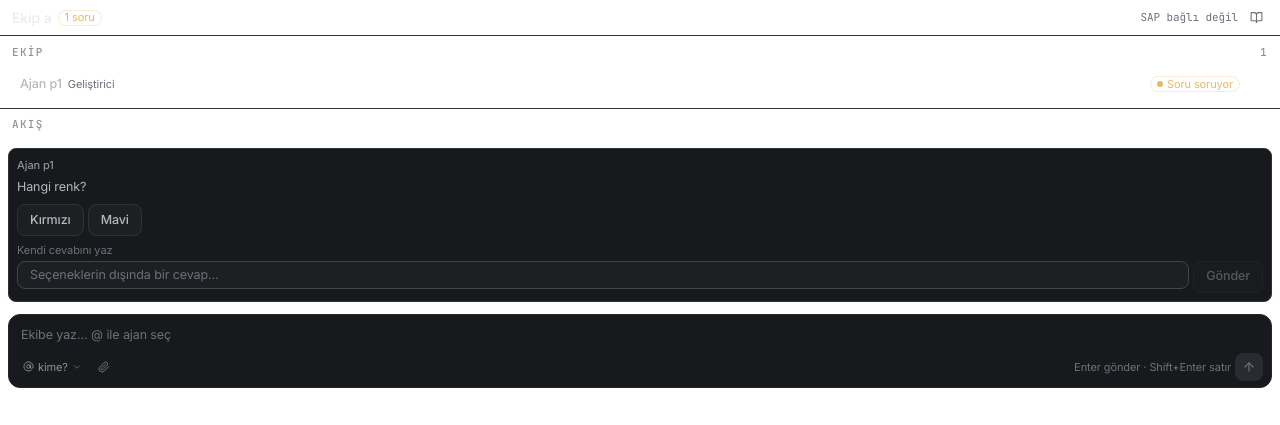
Scenario: serbest cevap — soru kartı › boş metinle Gönder kapalı; ret sebebi gösterilir ve kutu yeniden kullanılabilir
Expected: the button "Gönder" is disabled, x1=1193 y1=261 x2=1263 y2=293
Type "x" into the field labelled "Kendi cevabını yaz" at x=603, y=275, box x1=17 y1=261 x2=1189 y2=289
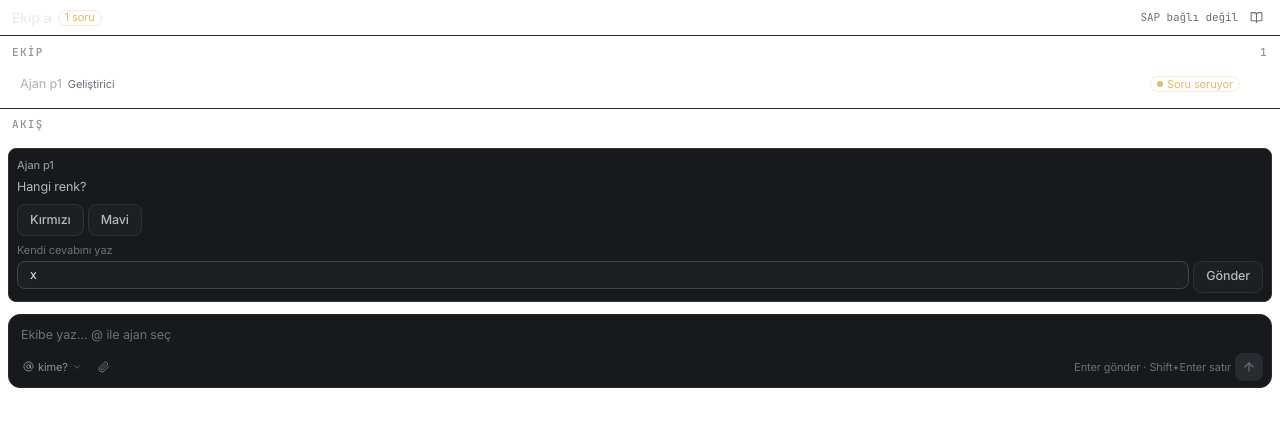
Click the button "Gönder" at x=1228, y=277, box x1=1193 y1=261 x2=1263 y2=293
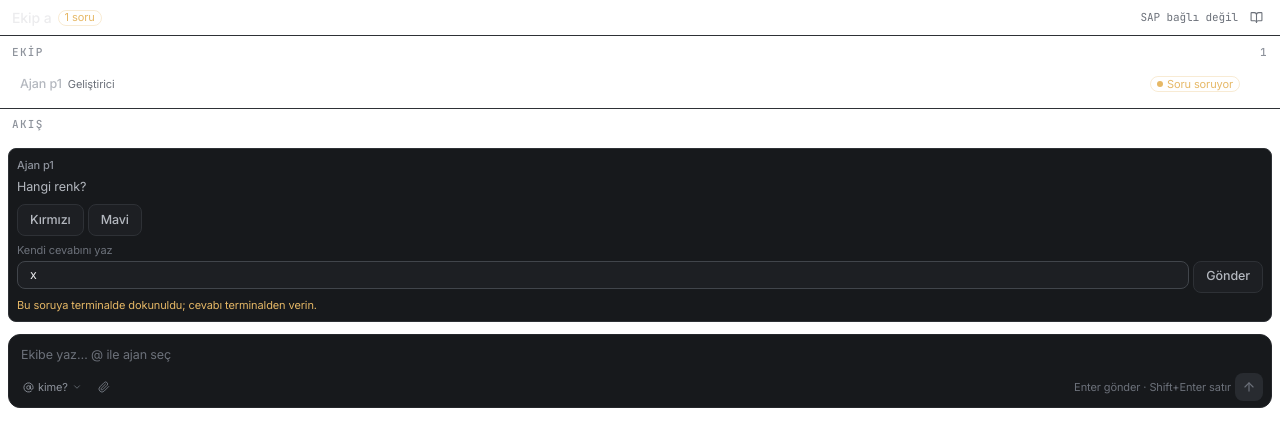
Expected: the field labelled "Kendi cevabını yaz" is enabled, x1=17 y1=261 x2=1189 y2=289
Expected: the message shows "terminalde dokunuldu", x1=17 y1=298 x2=317 y2=312
